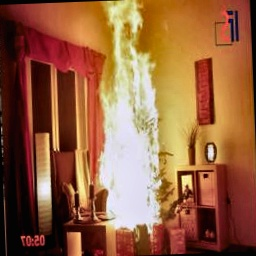fire: (95, 0, 161, 228)
